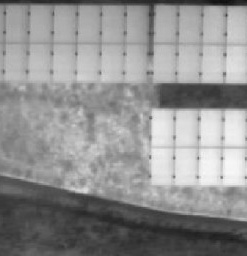solar: (1, 2, 31, 43), (26, 2, 56, 43), (50, 3, 80, 44), (73, 3, 103, 44), (97, 3, 127, 44), (121, 3, 151, 44), (151, 3, 181, 44), (176, 3, 206, 44), (198, 3, 228, 44), (198, 42, 228, 83), (174, 42, 204, 83), (151, 42, 181, 83), (121, 42, 151, 83), (97, 42, 127, 83), (72, 42, 102, 83), (48, 42, 78, 83), (25, 42, 55, 83), (1, 42, 31, 83), (147, 107, 177, 148), (171, 107, 201, 148), (197, 107, 227, 148), (217, 107, 247, 148), (217, 144, 247, 185), (196, 146, 226, 187), (172, 145, 202, 186), (147, 145, 177, 186)
